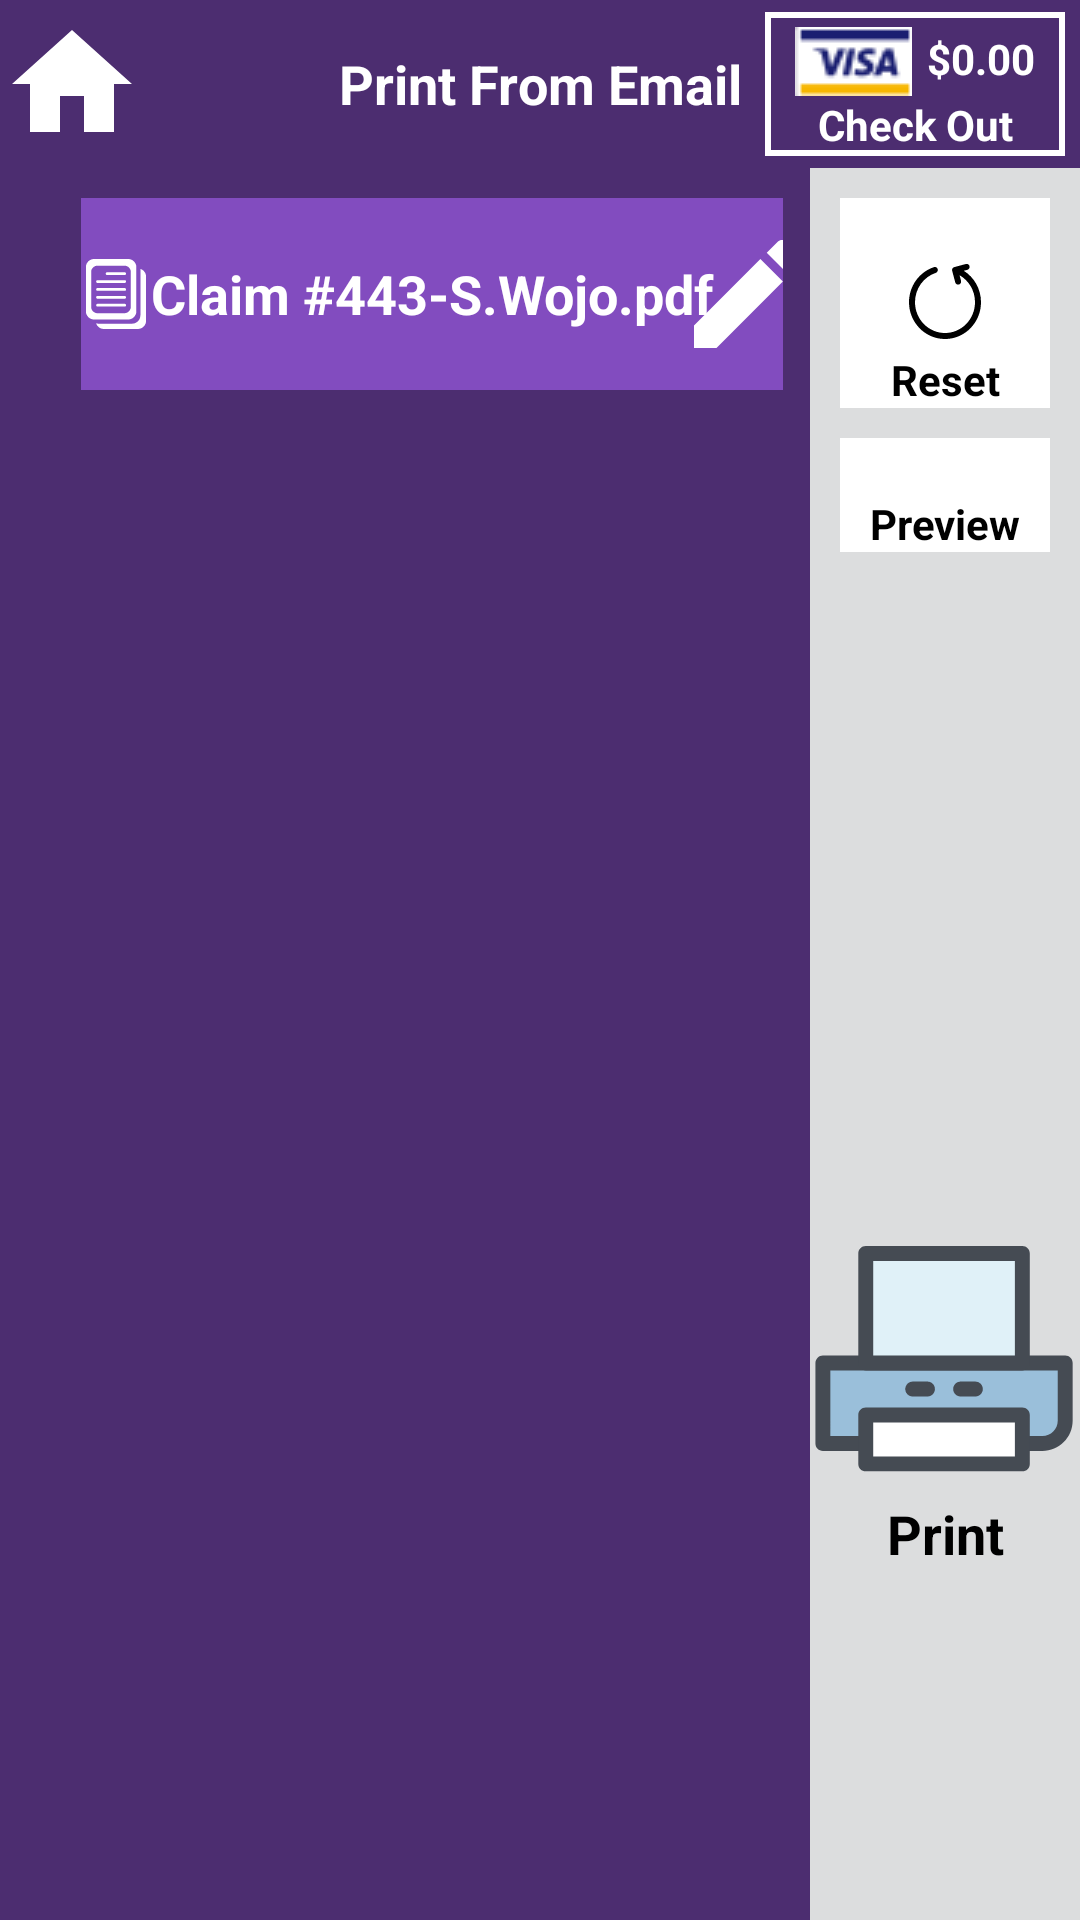

Where icons sit on this 1080px×1920px app screen, as {"left": x1, "top": y1, "right": x2, "bottom": y2}:
home: {"left": 12, "top": 30, "right": 132, "bottom": 132}
note: {"left": 86, "top": 259, "right": 146, "bottom": 329}
